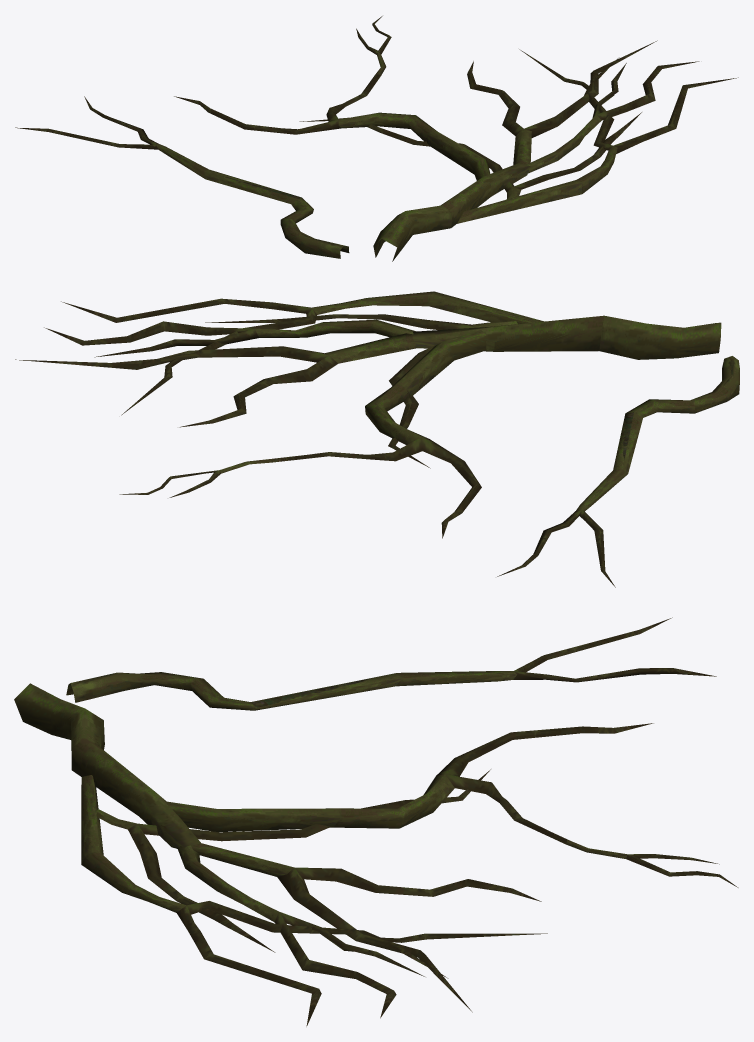
File: 4003_Item_shuteng_1.FBX
3 views of the same model, one above another, from view 1: azimuth 30°, elevation 25°; view 2: azimuth 150°, elevation 25°; view 3: azimuth 270°, elevation 25° (orthographic). The views are drawn at different scales.
Visible parts, largest first — view 1: 4003_Item_shuteng_1; view 2: 4003_Item_shuteng_1; view 3: 4003_Item_shuteng_1.
Part boxes in pixels (box(x1,y1,x2,y2)): 4003_Item_shuteng_1: box(15, 16, 738, 261); 4003_Item_shuteng_1: box(15, 291, 739, 587); 4003_Item_shuteng_1: box(14, 617, 738, 1026).
Size of the model in its own units: 701 by 524 by 32.62.
